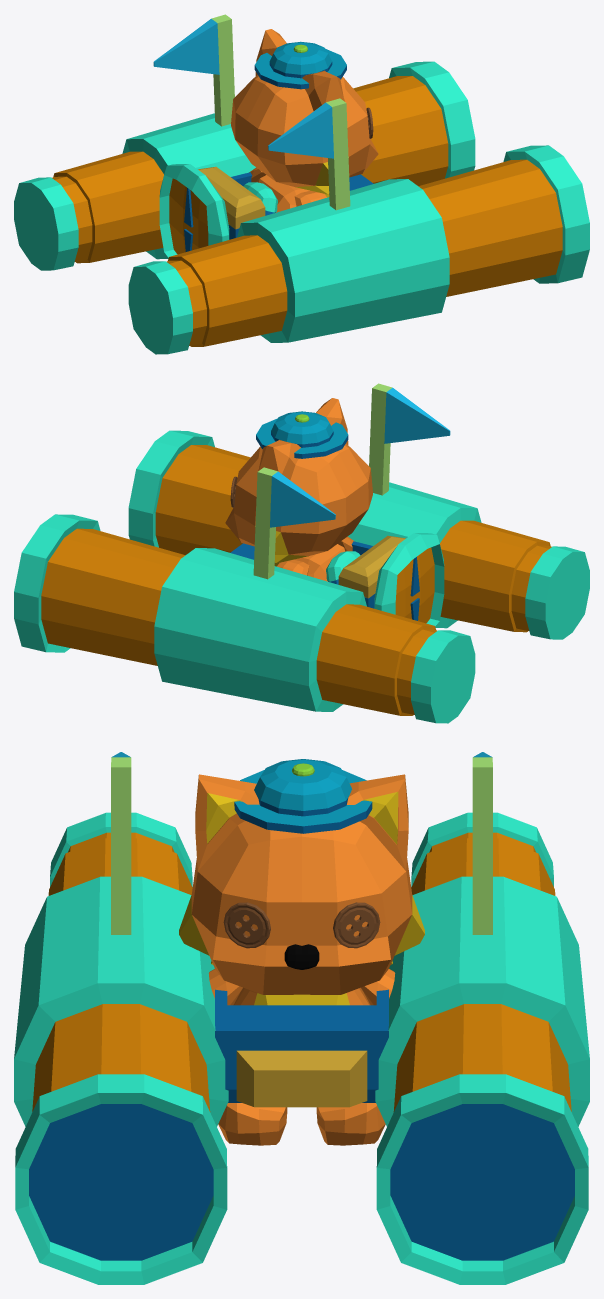
The model's file is Gato Misu  (1).fbx.
3 renders of one model, top to bottom at view 1: azimuth 30°, elevation 25°; view 2: azimuth 150°, elevation 25°; view 3: azimuth 270°, elevation 25°, orthographic. The views are drawn at different scales.
Visible parts, largest first — view 1: Asiento; view 2: Asiento; view 3: Asiento.
Boxes of the visible parts, x1,y1,x2,y2 form: Asiento: (14, 14, 589, 354); Asiento: (14, 383, 589, 723); Asiento: (14, 752, 589, 1284).
Size of the model in its own units: 455 by 259 by 355.
